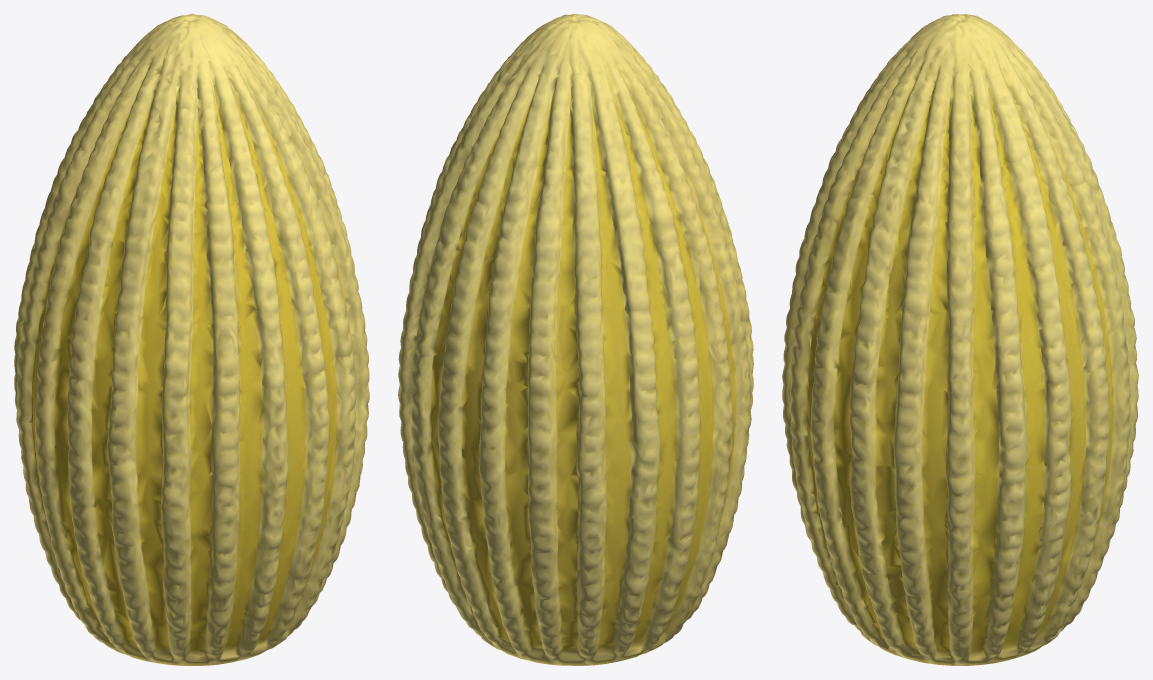
File: butterfly-egg.glb
3 renders of one model, left to right at view 1: azimuth 30°, elevation 25°; view 2: azimuth 150°, elevation 25°; view 3: azimuth 270°, elevation 25°, orthographic.
Bounding box in the file's own units: 1.01 × 1.9 × 1.01.
1 material, 1 textured.
